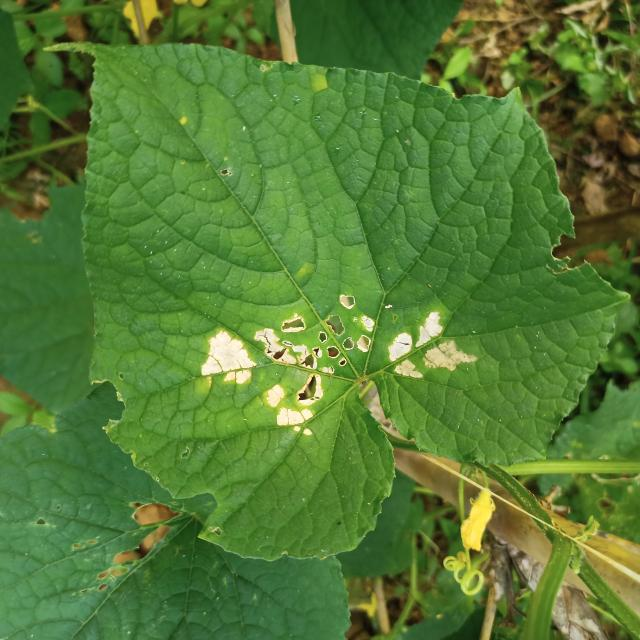disease_cucumber: (195, 290, 374, 442), (380, 302, 482, 395)
